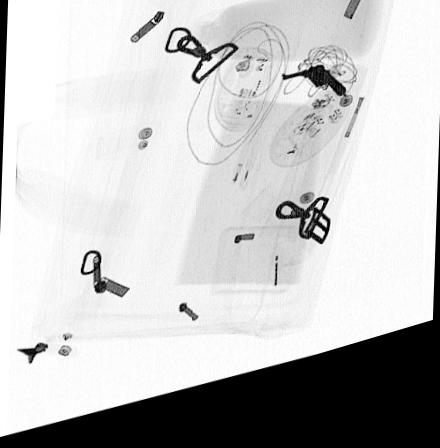Gun: (281, 82, 346, 115)
